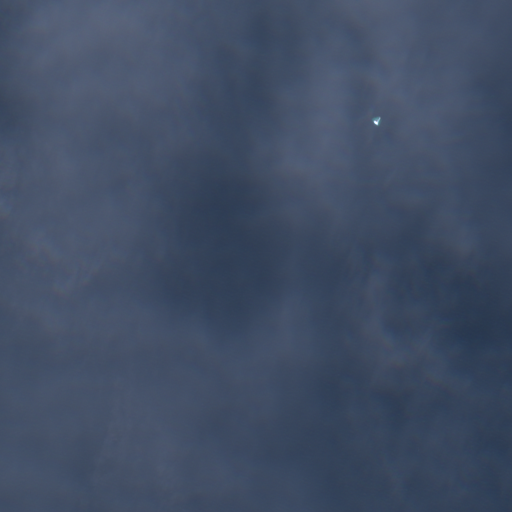Iceberg: (372, 117, 380, 125)
